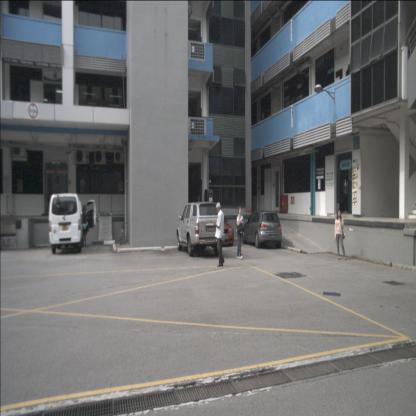human-pedestrian-adult: (213, 202, 225, 267), (334, 209, 346, 260), (236, 206, 244, 260), (81, 204, 89, 248)
vehicle-bicycle: (118, 218, 128, 246)
vehicle-car: (176, 201, 222, 258), (48, 192, 86, 256), (242, 209, 282, 250), (205, 214, 234, 247)
